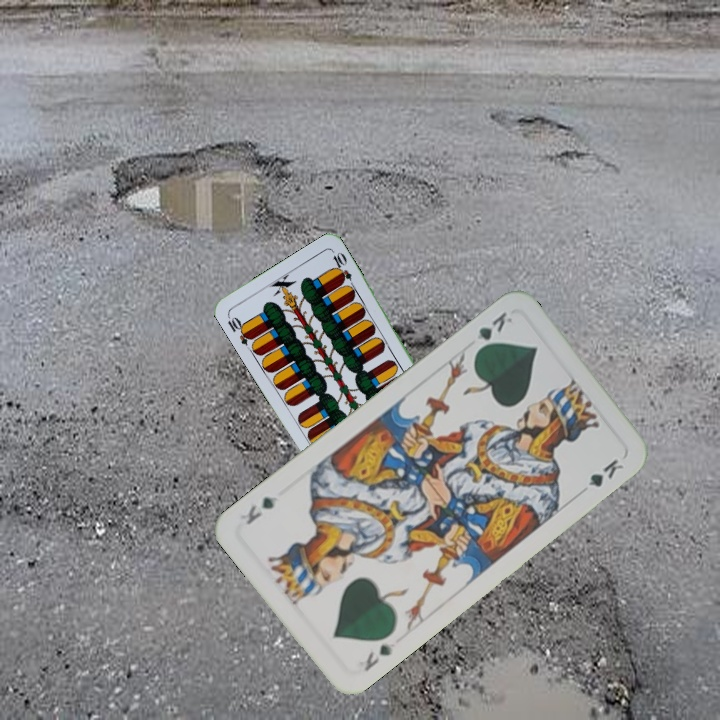E10: (223, 311, 255, 348)
GK: (470, 307, 515, 356), (360, 640, 395, 674)
